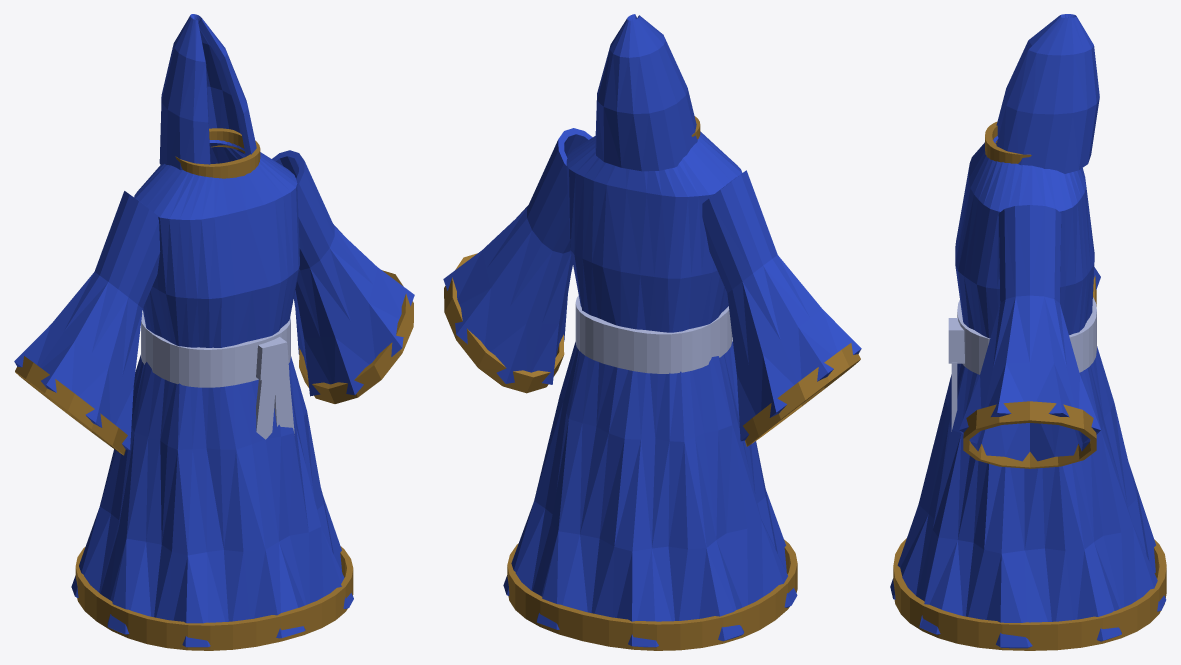
File: ether_robe.obj
The picture shows the model from 3 angles, left to right: view 1: azimuth 30°, elevation 25°; view 2: azimuth 150°, elevation 25°; view 3: azimuth 270°, elevation 25°; orthographic projection. The views are drawn at different scales.
Parts seen in each view (by area): view 1: A_Body.001_ether_robe_cloth, C_Sleeve.001_ether_robe_cloth, B_Hood.001_ether_robe_cloth, D_HemTrim.001_ether_robe_trim, E_Sash.001_ether_robe_sash, C_Cuff.001_ether_robe_trim, D_NeckTrim.001_ether_robe_trim, E_Knot.001_ether_robe_sash, E_Tail0.001_ether_robe_sash, E_Tail1.001_ether_robe_sash; view 2: A_Body.001_ether_robe_cloth, C_Sleeve.001_ether_robe_cloth, B_Hood.001_ether_robe_cloth, D_HemTrim.001_ether_robe_trim, E_Sash.001_ether_robe_sash, C_Cuff.001_ether_robe_trim; view 3: A_Body.001_ether_robe_cloth, C_Sleeve.001_ether_robe_cloth, B_Hood.001_ether_robe_cloth, D_HemTrim.001_ether_robe_trim, C_Cuff.001_ether_robe_trim, E_Sash.001_ether_robe_sash, D_NeckTrim.001_ether_robe_trim, E_Knot.001_ether_robe_sash, E_Tail1.001_ether_robe_sash.
Part boxes in pixels (x1,y1,x2,y2): A_Body.001_ether_robe_cloth: (71, 140, 353, 647); C_Sleeve.001_ether_robe_cloth: (14, 150, 414, 449); B_Hood.001_ether_robe_cloth: (159, 14, 256, 170); D_HemTrim.001_ether_robe_trim: (75, 546, 353, 650); E_Sash.001_ether_robe_sash: (141, 312, 290, 387); C_Cuff.001_ether_robe_trim: (15, 270, 413, 455); D_NeckTrim.001_ether_robe_trim: (175, 128, 260, 178); E_Knot.001_ether_robe_sash: (256, 337, 289, 380); E_Tail0.001_ether_robe_sash: (256, 376, 276, 439); E_Tail1.001_ether_robe_sash: (274, 373, 294, 433); A_Body.001_ether_robe_cloth: (503, 131, 797, 647); C_Sleeve.001_ether_robe_cloth: (443, 128, 861, 441); B_Hood.001_ether_robe_cloth: (595, 14, 697, 171); D_HemTrim.001_ether_robe_trim: (507, 539, 797, 650); E_Sash.001_ether_robe_sash: (575, 295, 732, 373); C_Cuff.001_ether_robe_trim: (444, 253, 860, 446); A_Body.001_ether_robe_cloth: (890, 136, 1166, 648); C_Sleeve.001_ether_robe_cloth: (959, 205, 1100, 461); B_Hood.001_ether_robe_cloth: (996, 14, 1099, 173); D_HemTrim.001_ether_robe_trim: (893, 538, 1166, 650); C_Cuff.001_ether_robe_trim: (963, 275, 1096, 468); E_Sash.001_ether_robe_sash: (957, 297, 1096, 374); D_NeckTrim.001_ether_robe_trim: (985, 121, 1031, 163); E_Knot.001_ether_robe_sash: (948, 318, 964, 363); E_Tail1.001_ether_robe_sash: (951, 362, 957, 431).
Bounding box in the file's own units: 2.7 × 3.84 × 1.67.
